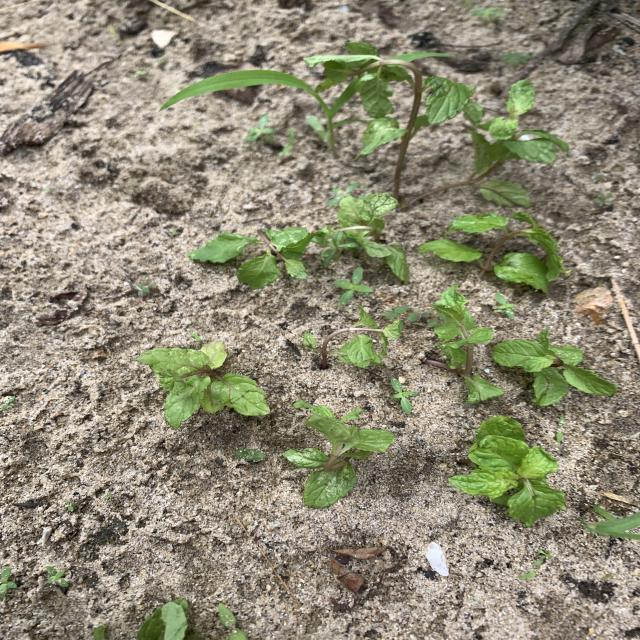crop: (304, 42, 474, 197), (417, 81, 567, 207), (449, 417, 566, 525), (420, 214, 570, 291), (285, 402, 394, 506), (137, 342, 268, 426), (494, 329, 616, 406), (428, 286, 502, 402), (189, 228, 313, 287), (338, 195, 407, 282), (304, 306, 402, 367)
weed: (159, 70, 356, 154), (315, 229, 356, 265), (585, 512, 639, 539), (335, 268, 371, 303), (219, 605, 248, 639), (391, 379, 418, 412), (246, 116, 275, 142), (384, 307, 429, 322), (330, 184, 357, 206), (471, 8, 503, 24), (495, 294, 515, 317), (1, 568, 17, 596), (46, 566, 67, 587), (280, 129, 294, 155), (501, 53, 531, 65), (236, 449, 264, 461), (555, 415, 565, 443), (535, 549, 551, 565), (137, 280, 155, 294), (423, 313, 440, 325), (1, 397, 15, 409), (595, 194, 611, 204), (62, 501, 75, 511)
